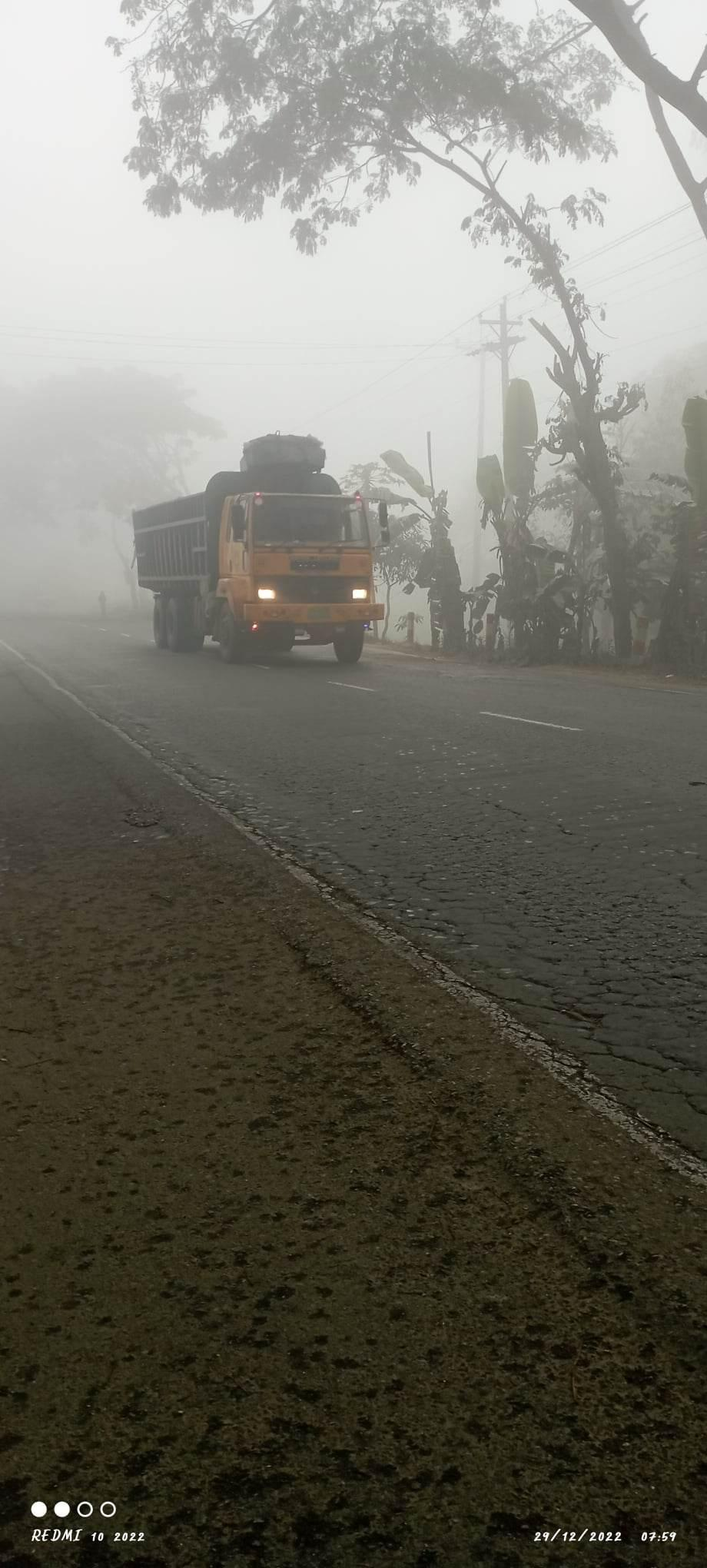Truck: (85, 407, 405, 686)
